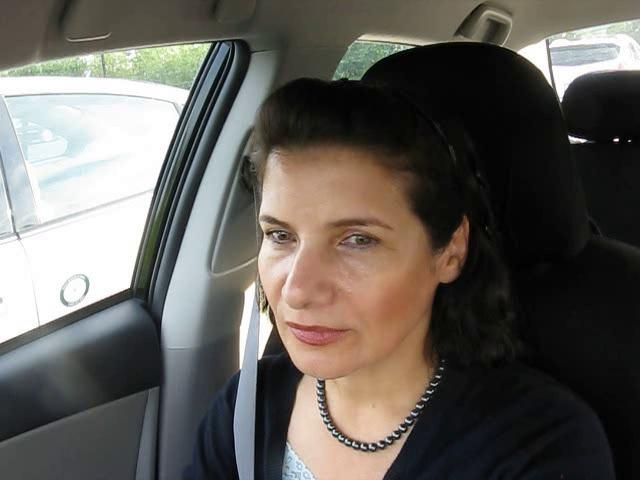no_yawn: (274, 306, 363, 356)
open_eyeL: (252, 219, 304, 254)
open_eyeR: (322, 221, 398, 259)
